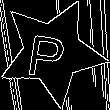P_N: (30, 24, 75, 80)
